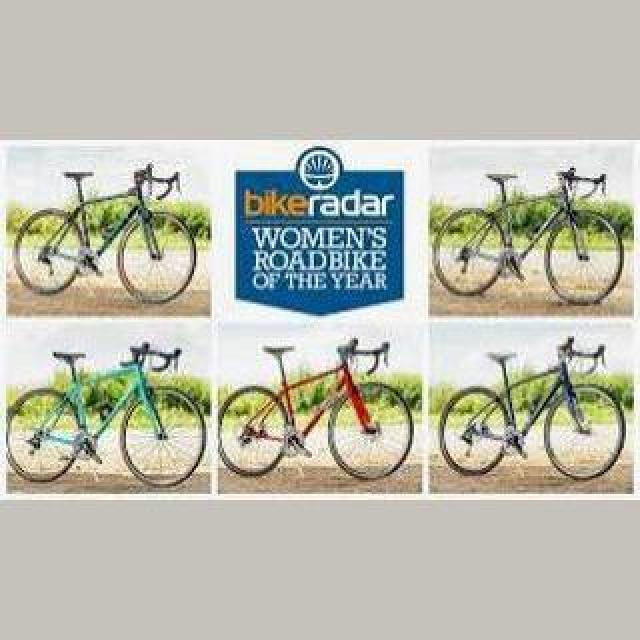Person: (5, 343, 209, 487), (218, 336, 418, 480), (437, 334, 629, 480), (431, 166, 629, 304), (11, 164, 201, 302)
